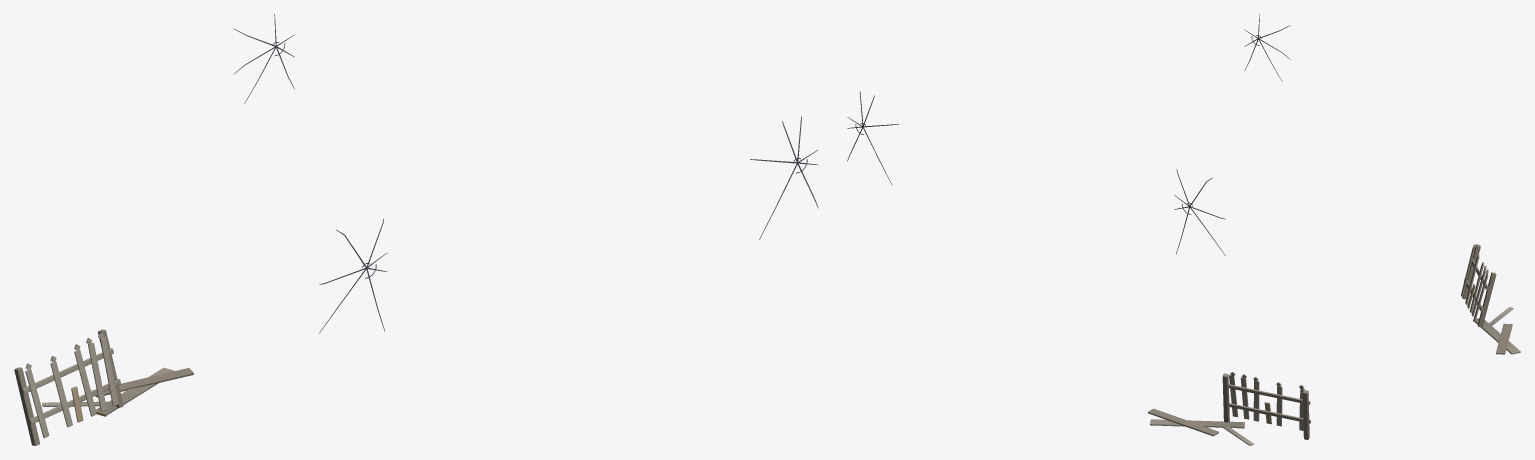
The model's file is house_worn_manor2.glb.
3 renders of one model, left to right at view 1: azimuth 30°, elevation 25°; view 2: azimuth 150°, elevation 25°; view 3: azimuth 270°, elevation 25°, orthographic. The views are drawn at different scales.
Size of the model in its own units: 9.5 by 5.91 by 2.98.
